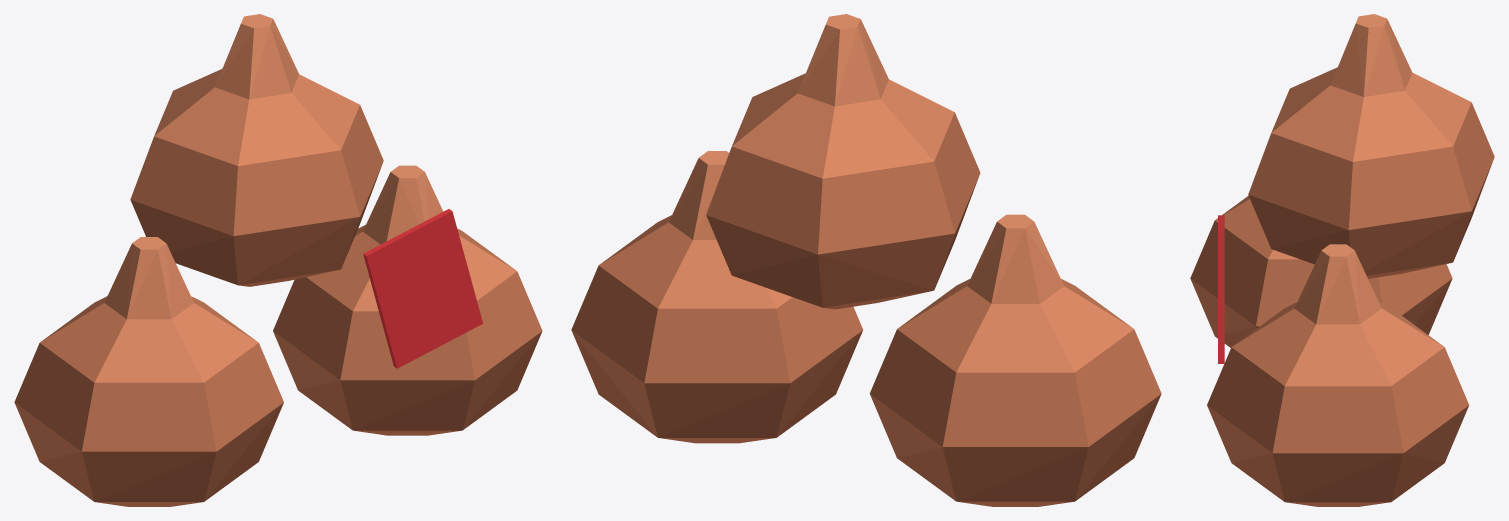
File: g-onions.glb
3 renders of one model, left to right at view 1: azimuth 30°, elevation 25°; view 2: azimuth 150°, elevation 25°; view 3: azimuth 270°, elevation 25°, orthographic. The views are drawn at different scales.
Parts seen in each view (by area): view 1: g_onions; view 2: g_onions; view 3: g_onions.
Boxes of the visible parts, box(x1,y1,x2,y2) form: g_onions: box(14, 14, 542, 506); g_onions: box(571, 14, 1161, 506); g_onions: box(1190, 14, 1494, 506).
Bounding box in the file's own units: 0.1582 × 0.135 × 0.0913.
